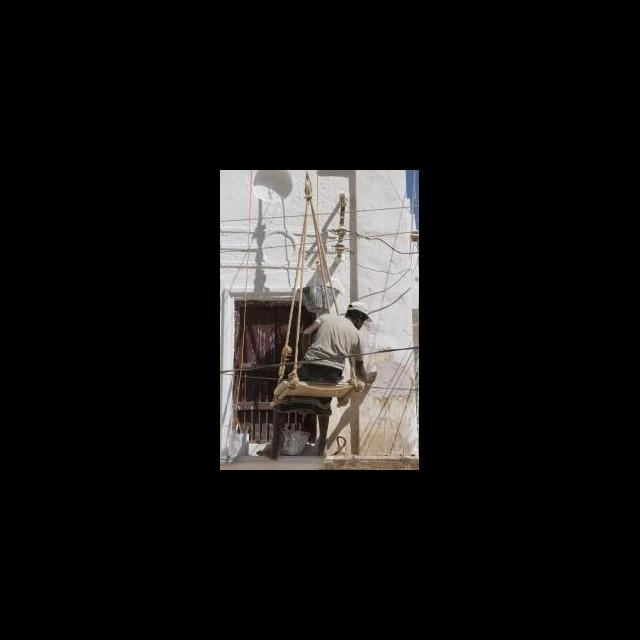Hardhat: (345, 300, 370, 319)
NO-Mask: (355, 318, 363, 330)
NO-Safety Vest: (303, 314, 352, 369)
Person: (256, 299, 374, 461)
